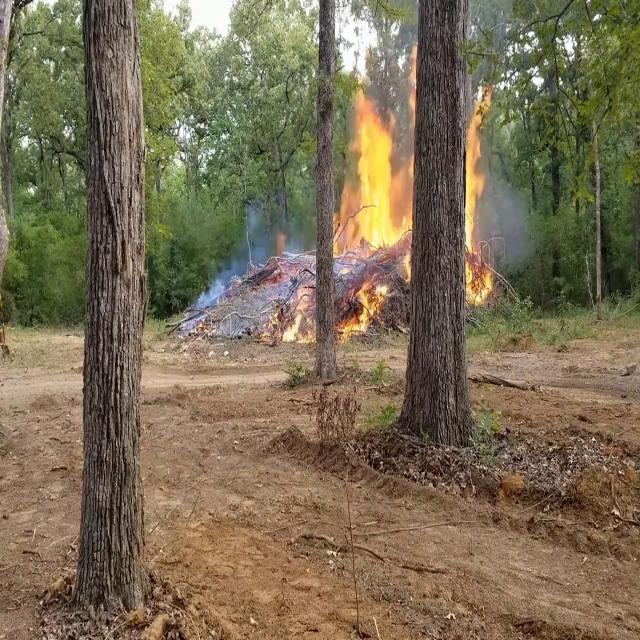Fire: (334, 94, 414, 268), (462, 91, 490, 303), (340, 275, 390, 337), (276, 280, 316, 347)
Smoke: (190, 228, 272, 334), (486, 164, 534, 286)
